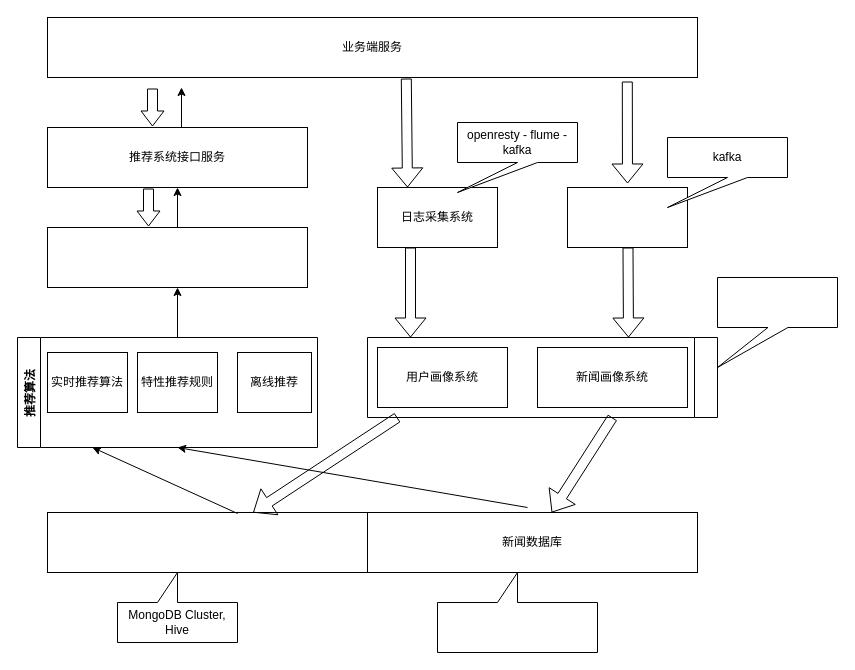
Image size: 855x670. Some labels were removed from this diagram. Here are the shapes that lost their labels. From the top down, the centre of each, then its label:
At [627,217]: "新闻同步系统".
At [177,257]: "推荐系统数存储".
At [777,322]: "Spark, Hadoop, Flink".
At [542,377]: "画像系统".
At [207,542]: "用户画像数据库".
At [517,612]: "Redis, Elasticsearch, MongoDB,HBase".
